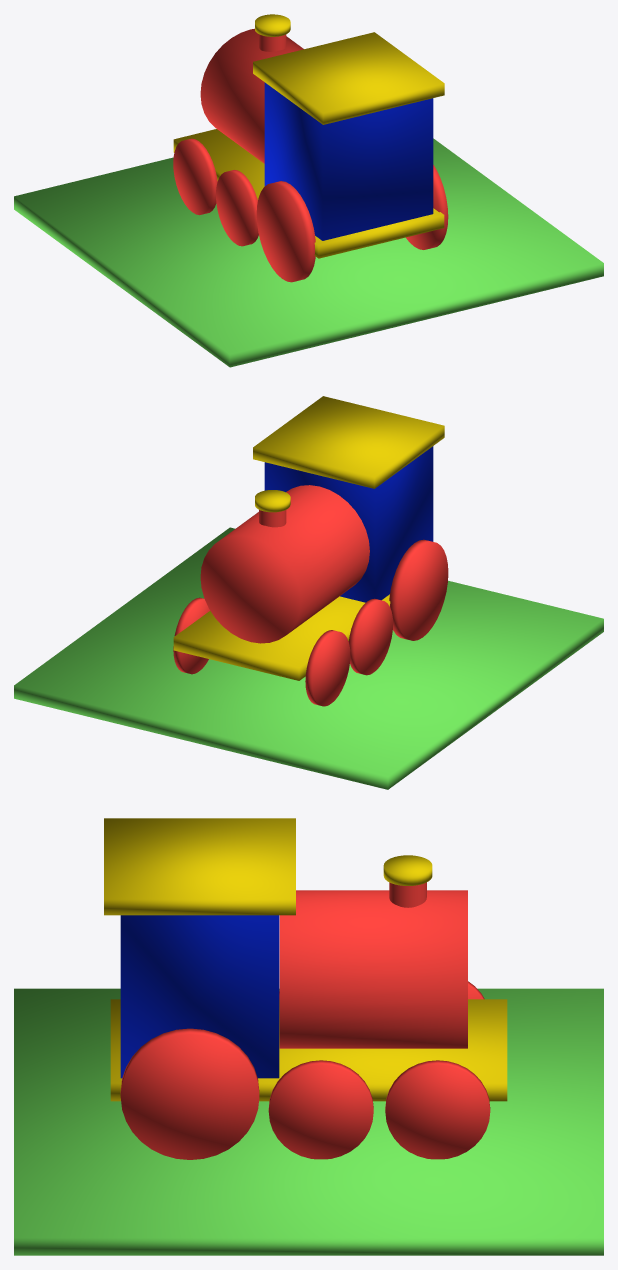
The model's file is train.glb.
3 renders of one model, top to bottom at view 1: azimuth 30°, elevation 25°; view 2: azimuth 150°, elevation 25°; view 3: azimuth 270°, elevation 25°, orthographic. The views are drawn at different scales.
Visible parts, largest first — view 1: Cube.003, Cube.001, Cube.002, Cylinder, Cylinder.004, Cube, Cylinder.006, Cylinder.005, Cylinder.007, Cylinder.003; view 2: Cube.003, Cylinder, Cube.002, Cube.001, Cube, Cylinder.004, Cylinder.006, Cylinder.005, Cylinder.009, Cylinder.003; view 3: Cube.003, Cylinder, Cube.001, Cube.002, Cylinder.007, Cube, Cylinder.008, Cylinder.009, Cylinder.003, Cylinder.002.
Part boxes in pixels (left/top/right/bottom): Cube.003: left=14, top=138, right=603, bottom=367; Cube.001: left=264, top=82, right=433, bottom=240; Cube.002: left=253, top=32, right=444, bottom=124; Cylinder: left=200, top=28, right=303, bottom=163; Cylinder.004: left=256, top=181, right=315, bottom=282; Cube: left=173, top=129, right=444, bottom=258; Cylinder.006: left=173, top=138, right=217, bottom=215; Cylinder.005: left=216, top=170, right=258, bottom=246; Cylinder.007: left=406, top=165, right=448, bottom=249; Cylinder.003: left=255, top=14, right=290, bottom=36; Cube.003: left=14, top=527, right=603, bottom=789; Cylinder: left=200, top=485, right=369, bottom=643; Cube.002: left=253, top=396, right=444, bottom=488; Cube.001: left=264, top=446, right=433, bottom=602; Cube: left=173, top=594, right=390, bottom=680; Cylinder.004: left=389, top=539, right=448, bottom=640; Cylinder.006: left=305, top=630, right=350, bottom=706; Cylinder.005: left=348, top=598, right=392, bottom=675; Cylinder.009: left=173, top=597, right=209, bottom=674; Cylinder.003: left=255, top=490, right=290, bottom=512; Cube.003: left=14, top=988, right=603, bottom=1255; Cylinder: left=279, top=890, right=467, bottom=1048; Cube.001: left=120, top=915, right=279, bottom=1078; Cube.002: left=104, top=818, right=295, bottom=915; Cylinder.007: left=120, top=1028, right=259, bottom=1159; Cube: left=110, top=999, right=507, bottom=1101; Cylinder.008: left=268, top=1060, right=373, bottom=1159; Cylinder.009: left=385, top=1060, right=490, bottom=1159; Cylinder.003: left=383, top=855, right=432, bottom=885; Cylinder.002: left=389, top=882, right=426, bottom=907.
Size of the model in its own units: 5.95 by 3.03 by 5.95.
